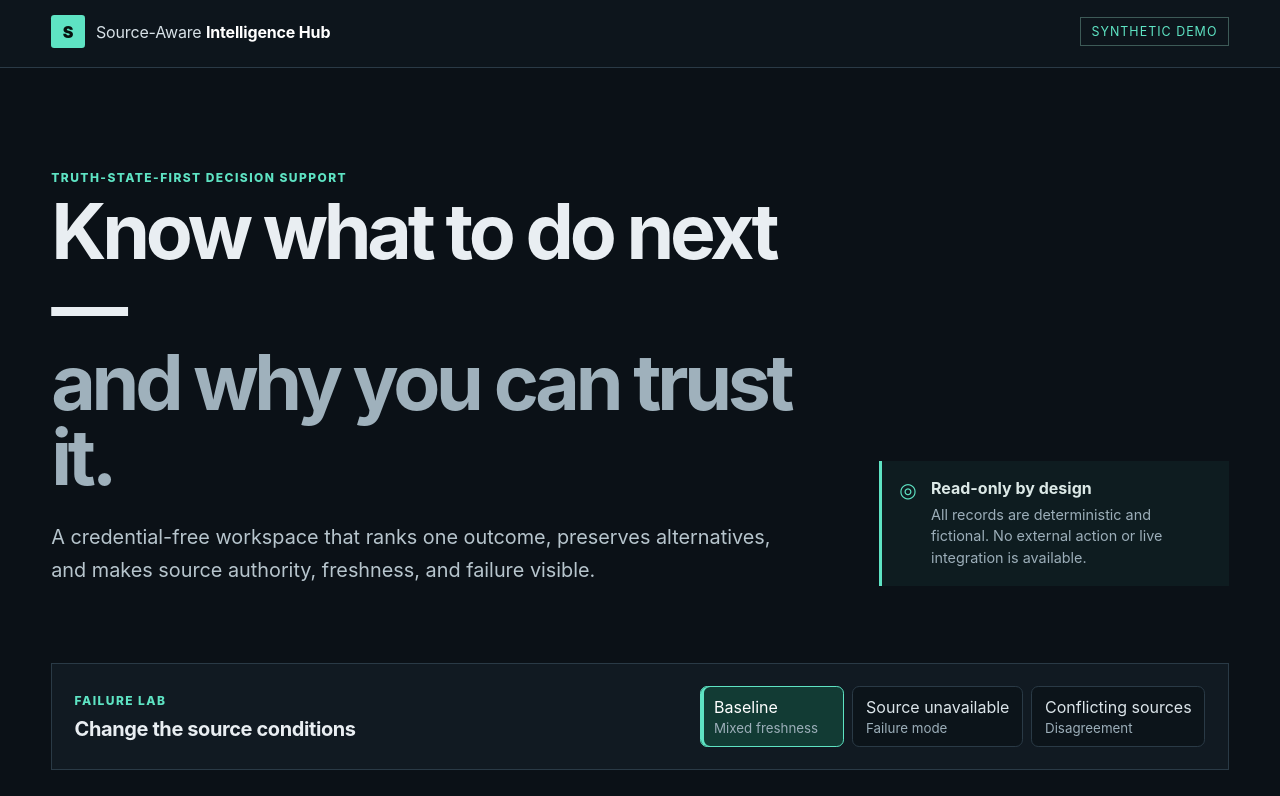
Test: decision workspace › demonstrates a degraded source without claiming confidence
The image size is (1280, 796).
Click the button "Source unavailable Failure mode" at (938, 717), box [852,686,1023,747]
(page scrolled)
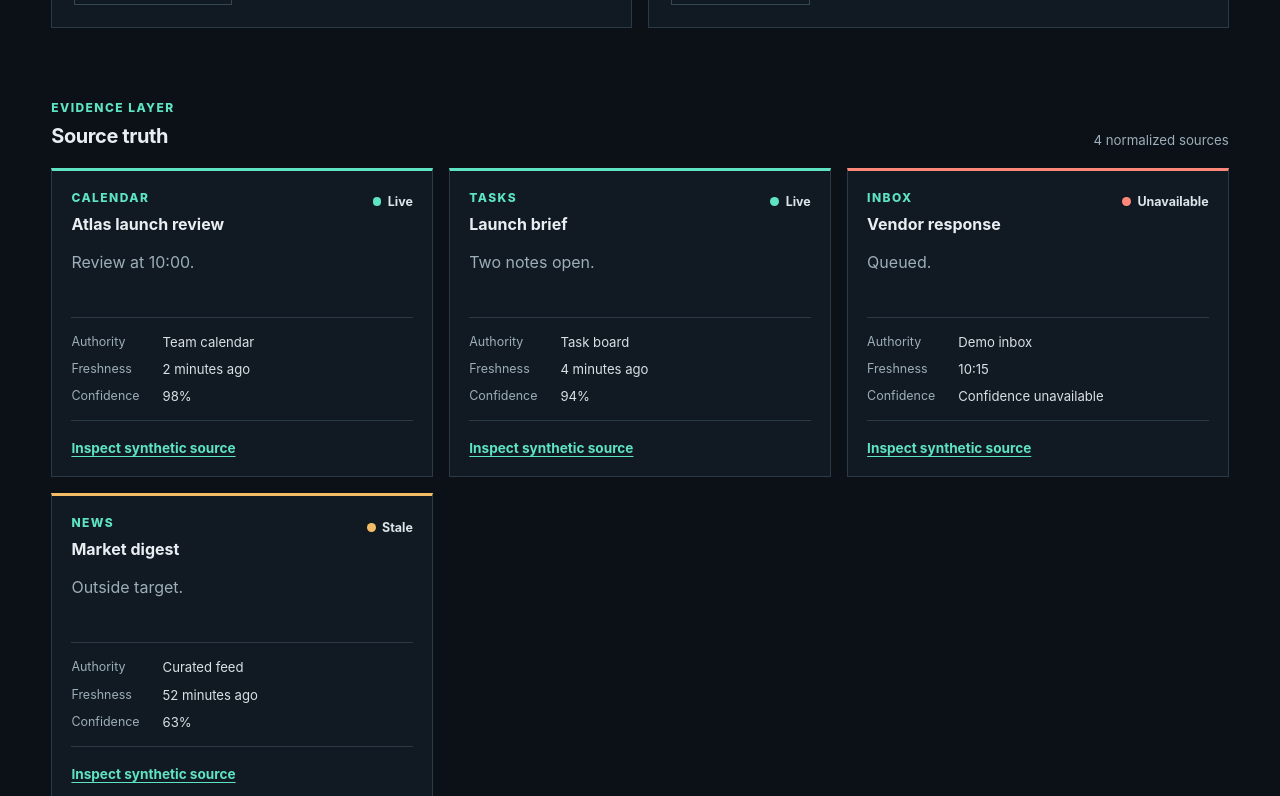
Expected: the text "Unavailable" is shown, [1122,194,1209,209]
Expected: the text "Confidence unavailable" is shown, [958,388,1104,404]
